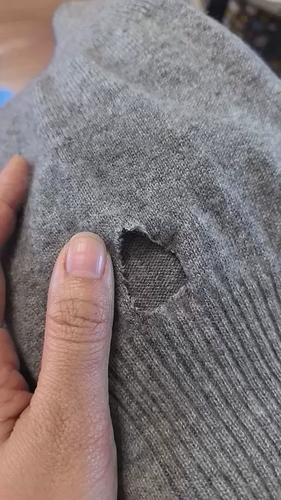hole_2: (116, 227, 185, 316)
